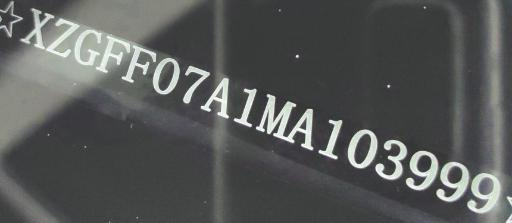letter: (256, 94, 296, 137), (44, 17, 80, 56), (374, 140, 408, 181), (436, 162, 470, 203), (20, 8, 54, 48), (468, 173, 500, 214), (122, 45, 156, 83), (407, 150, 439, 190), (96, 35, 130, 72), (346, 128, 378, 166), (288, 106, 316, 149), (182, 65, 212, 105), (200, 78, 230, 117), (150, 57, 180, 94), (317, 117, 343, 159), (232, 86, 258, 127), (74, 28, 102, 66)
